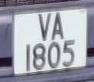0: (46, 40, 63, 72)
1: (23, 42, 34, 74)
5: (61, 39, 78, 70)
8: (31, 42, 48, 73)
A: (51, 10, 66, 45)
V: (37, 11, 52, 44)
